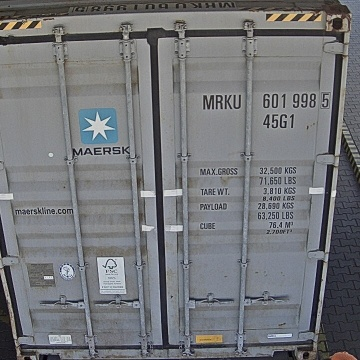serial_id: (203, 92, 330, 109)
